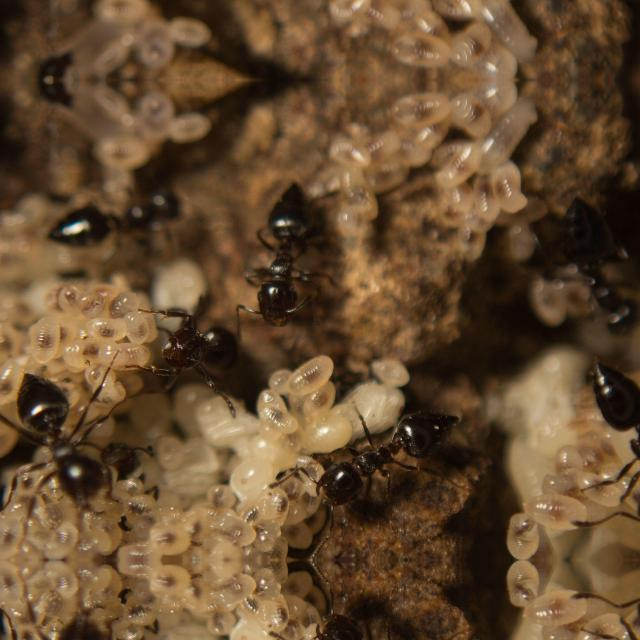Crematogaster: (310, 388, 446, 502), (6, 364, 110, 508), (553, 190, 639, 354), (232, 186, 330, 320), (47, 178, 201, 258), (145, 305, 255, 387), (583, 359, 639, 469), (310, 617, 445, 640)
